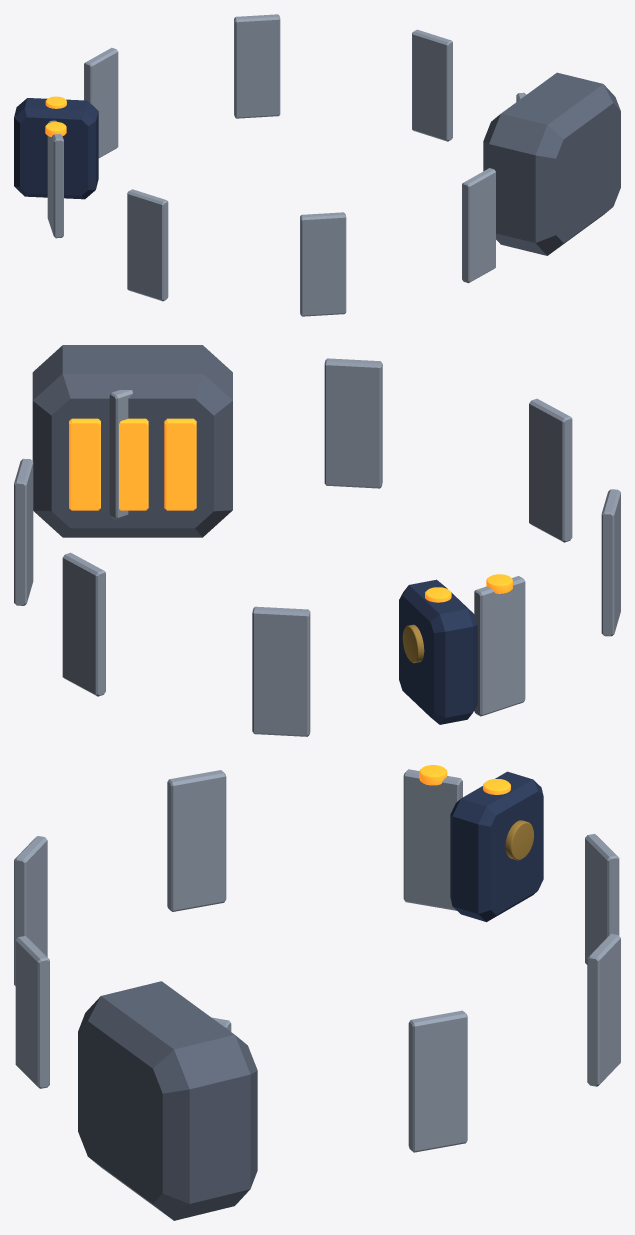
File: tower_overclock_efficiency_s4.glb
3 renders of one model, top to bottom at view 1: azimuth 30°, elevation 25°; view 2: azimuth 150°, elevation 25°; view 3: azimuth 270°, elevation 25°, orthographic. The views are drawn at different scales.
Visible parts, largest first — view 1: overclock_battery, overclock_regulator, overclock_base_fin2, overclock_base_fin6, overclock_base_fin7, overclock_base_fin3, overclock_base_fin5, overclock_base_fin1, overclock_base_fin0; view 2: overclock_battery, overclock_regulator, overclock_base_fin1, overclock_base_fin5, overclock_base_fin0, overclock_base_fin2, overclock_base_fin6, overclock_battery_cell0.1, overclock_battery_cell-0.1, overclock_battery_cell0, overclock_base_fin7, overclock_base_fin3 (+2 smaller); view 3: overclock_battery, overclock_regulator, overclock_base_fin3, overclock_base_fin7, overclock_base_fin0, overclock_base_fin5, overclock_base_fin2, overclock_base_fin1, overclock_base_fin6, overclock_regulator_dial.
Part boxes in pixels (left/top/right/bottom): overclock_battery: left=483, top=72, right=620, bottom=255; overclock_regulator: left=14, top=98, right=98, bottom=199; overclock_base_fin2: left=234, top=14, right=280, bottom=118; overclock_base_fin6: left=300, top=212, right=346, bottom=316; overclock_base_fin7: left=127, top=189, right=168, bottom=301; overclock_base_fin3: left=412, top=29, right=452, bottom=141; overclock_base_fin5: left=462, top=168, right=495, bottom=283; overclock_base_fin1: left=84, top=47, right=118, bottom=157; overclock_base_fin0: left=47, top=120, right=63, bottom=238; overclock_battery: left=32, top=345, right=232, bottom=537; overclock_regulator: left=399, top=579, right=477, bottom=724; overclock_base_fin1: left=252, top=606, right=310, bottom=736; overclock_base_fin5: left=324, top=358, right=382, bottom=488; overclock_base_fin0: left=474, top=576, right=525, bottom=716; overclock_base_fin2: left=62, top=552, right=105, bottom=696; overclock_base_fin6: left=529, top=398, right=572, bottom=542; overclock_battery_cell0.1: left=164, top=418, right=196, bottom=510; overclock_battery_cell-0.1: left=69, top=418, right=100, bottom=510; overclock_battery_cell0: left=119, top=418, right=148, bottom=510; overclock_base_fin7: left=601, top=489, right=620, bottom=636; overclock_base_fin3: left=14, top=458, right=33, bottom=605; overclock_battery: left=78, top=981, right=257, bottom=1220; overclock_regulator: left=450, top=771, right=543, bottom=922; overclock_base_fin3: left=408, top=1010, right=467, bottom=1152; overclock_base_fin7: left=167, top=770, right=226, bottom=911; overclock_base_fin0: left=403, top=769, right=462, bottom=910; overclock_base_fin5: left=15, top=936, right=49, bottom=1088; overclock_base_fin2: left=587, top=933, right=620, bottom=1086; overclock_base_fin1: left=585, top=834, right=619, bottom=964; overclock_base_fin6: left=14, top=836, right=47, bottom=985; overclock_regulator_dial: left=505, top=820, right=533, bottom=860.
Size of the model in its own units: 1.45 by 0.3792 by 1.22.
